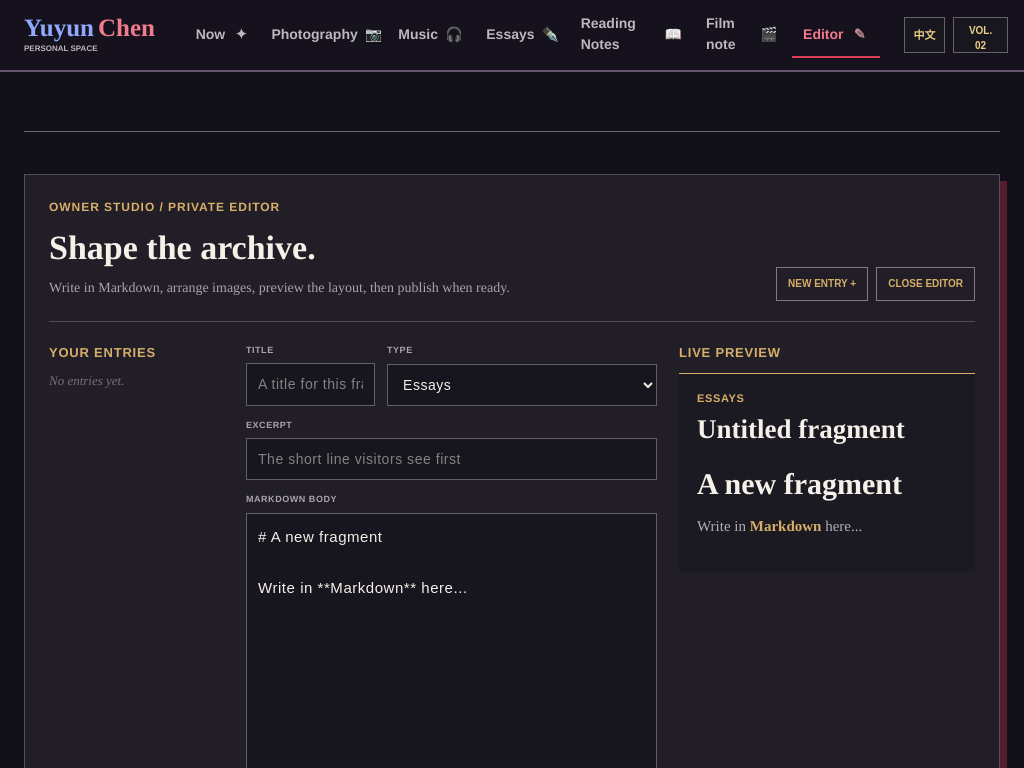
owner session restoration › automatically retries the first transient entry save with one stable entry id
(page scrolled)
Type "First-save recovery" into the field with placeholder "A title for this fragment" at (310, 384), box [246,363,375,406]
(page scrolled)
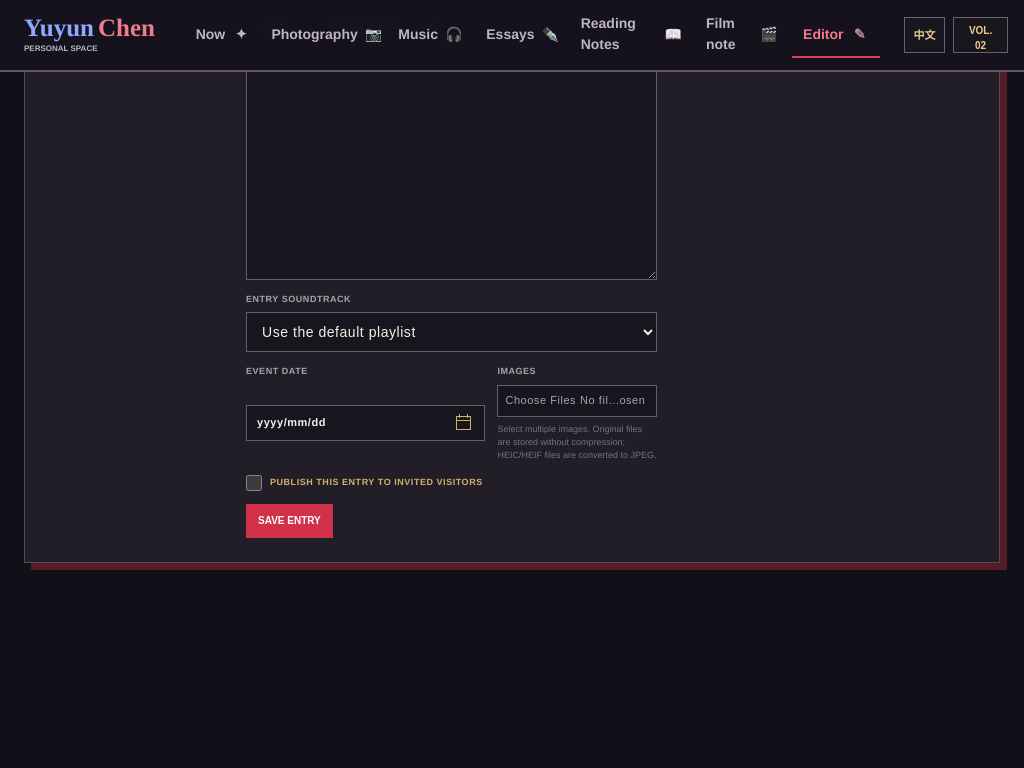
Click the button "Save entry" at (289, 521), box [246,504,333,538]
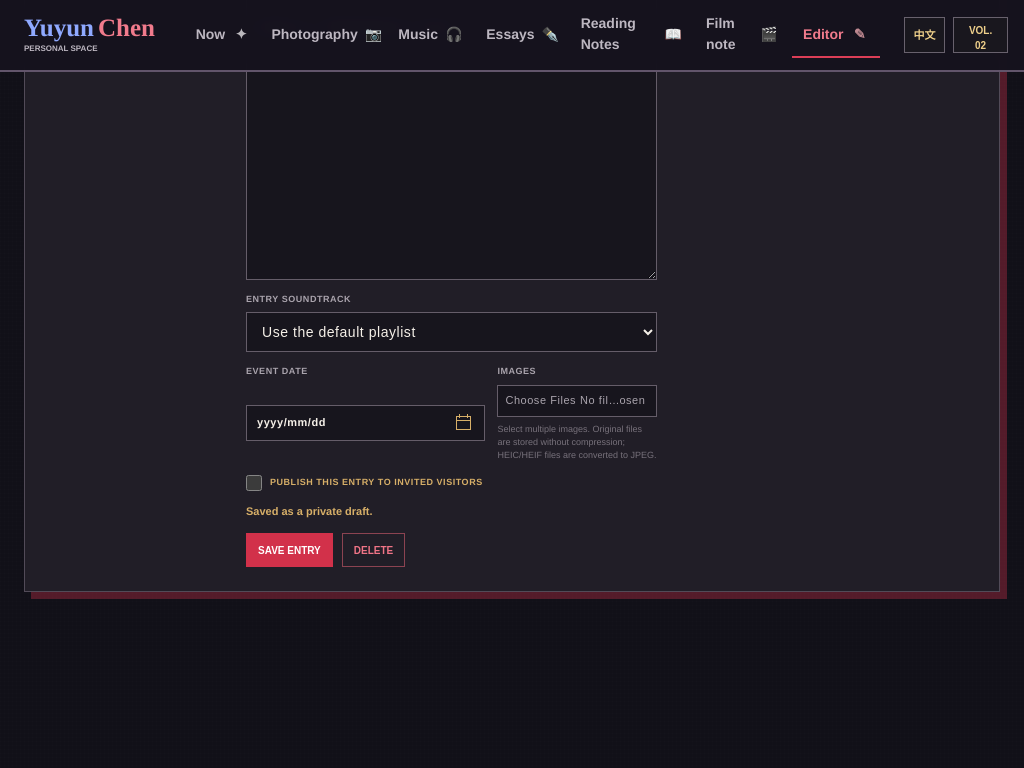
Check: the text "Saved as a private draft." is shown, box [246,506,373,518]
